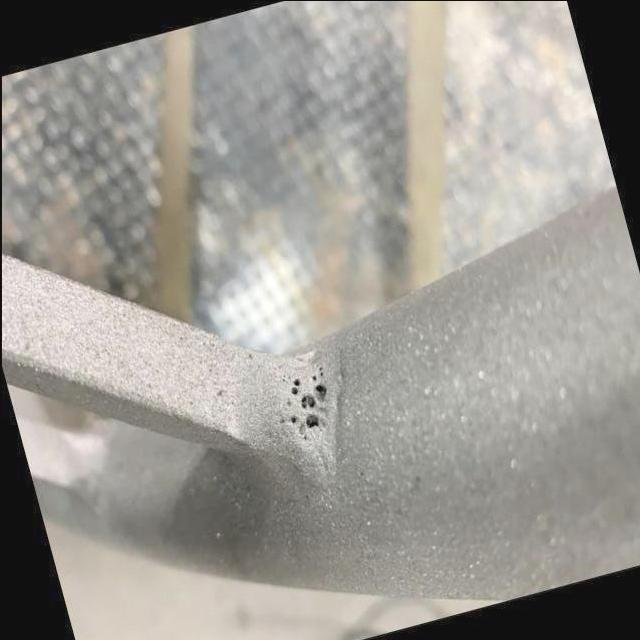defect: (308, 359, 328, 398), (301, 410, 318, 432), (299, 389, 314, 410), (289, 375, 300, 397), (288, 413, 297, 425), (278, 372, 287, 383), (276, 415, 285, 426), (284, 395, 291, 406)
